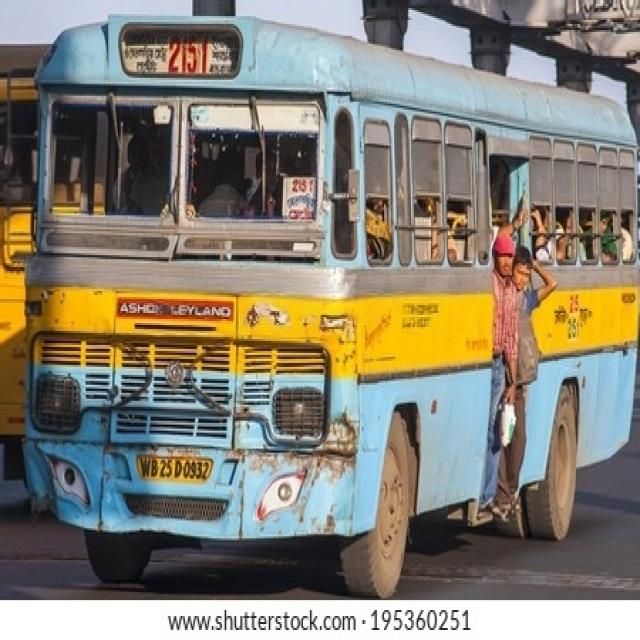bus: (24, 16, 640, 597)
